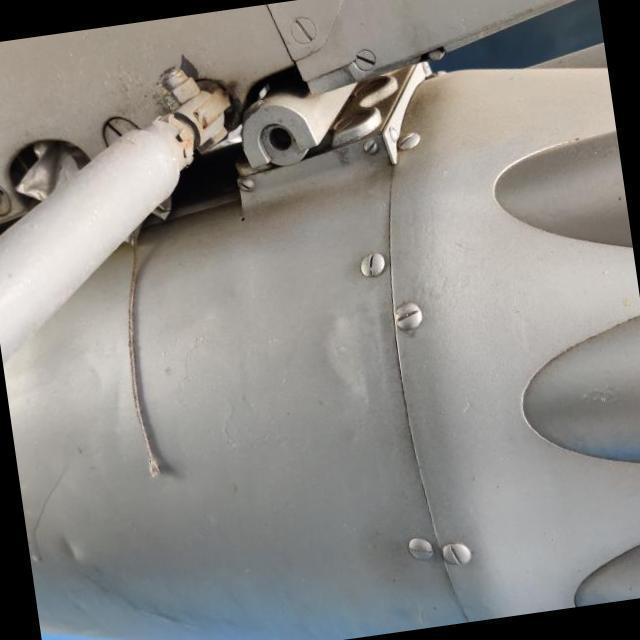Dent: (300, 297, 392, 416)
